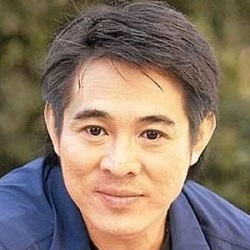unmask: (50, 52, 189, 238)
